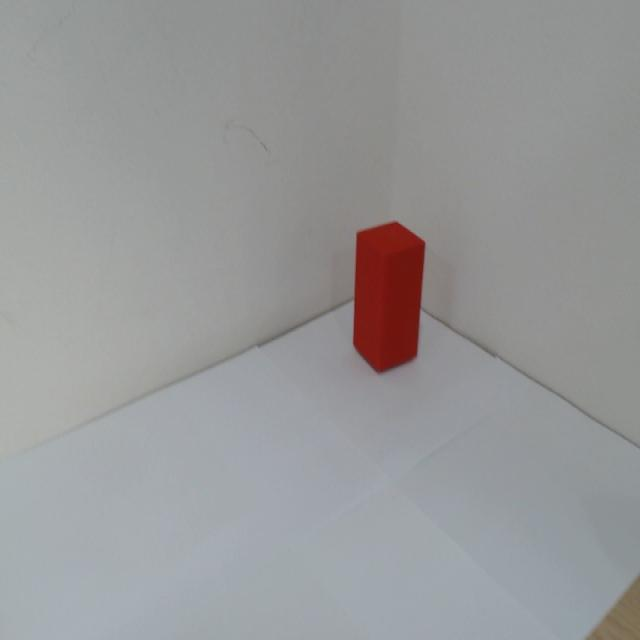cube: (346, 216, 429, 380)
